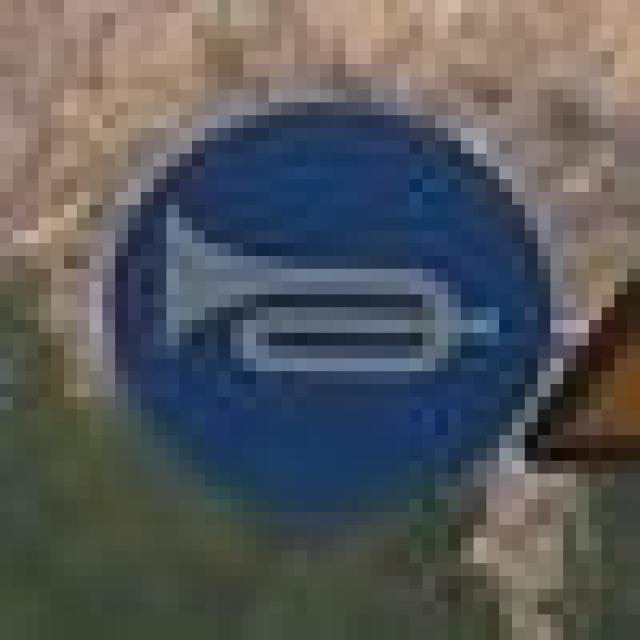compulsory_min_speed: (76, 77, 538, 512)
